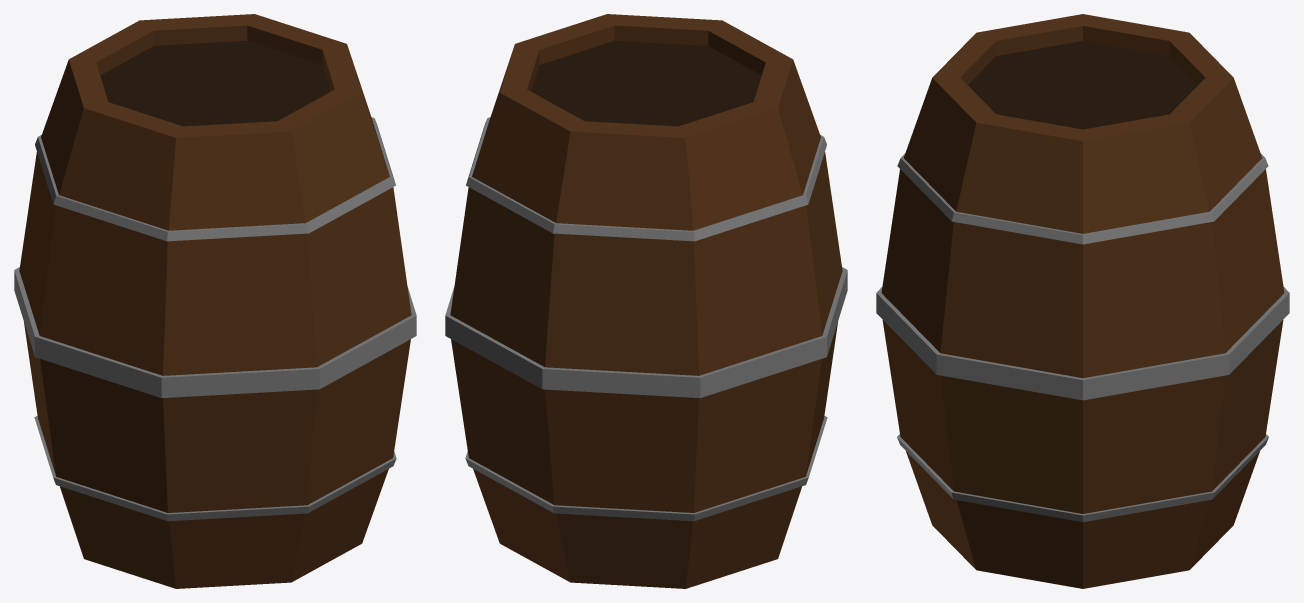
Rendered from barrel.fbx.
3 views of the same model, side by side, from view 1: azimuth 30°, elevation 25°; view 2: azimuth 150°, elevation 25°; view 3: azimuth 270°, elevation 25° (orthographic).
Visible parts, largest first — view 1: Cylinder; view 2: Cylinder; view 3: Cylinder.
Part boxes in pixels (x1,y1,x2,y2): Cylinder: (14, 14, 416, 588); Cylinder: (445, 14, 847, 588); Cylinder: (876, 14, 1289, 588).
Bounding box in the file's own units: 228 × 272 × 228.
